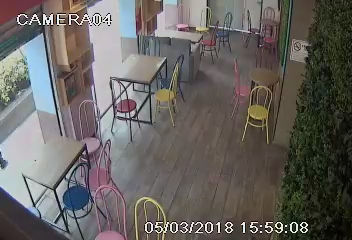libre: (15, 118, 125, 226), (93, 50, 188, 128), (232, 49, 286, 135), (134, 12, 235, 57), (247, 8, 287, 56)
